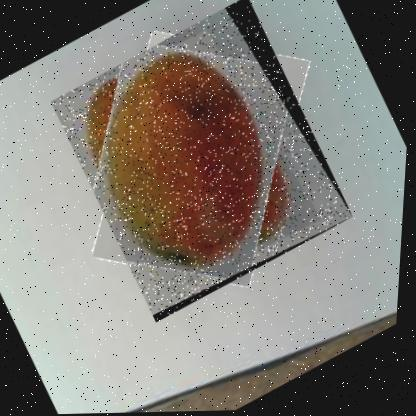mango: (40, 0, 366, 326)
